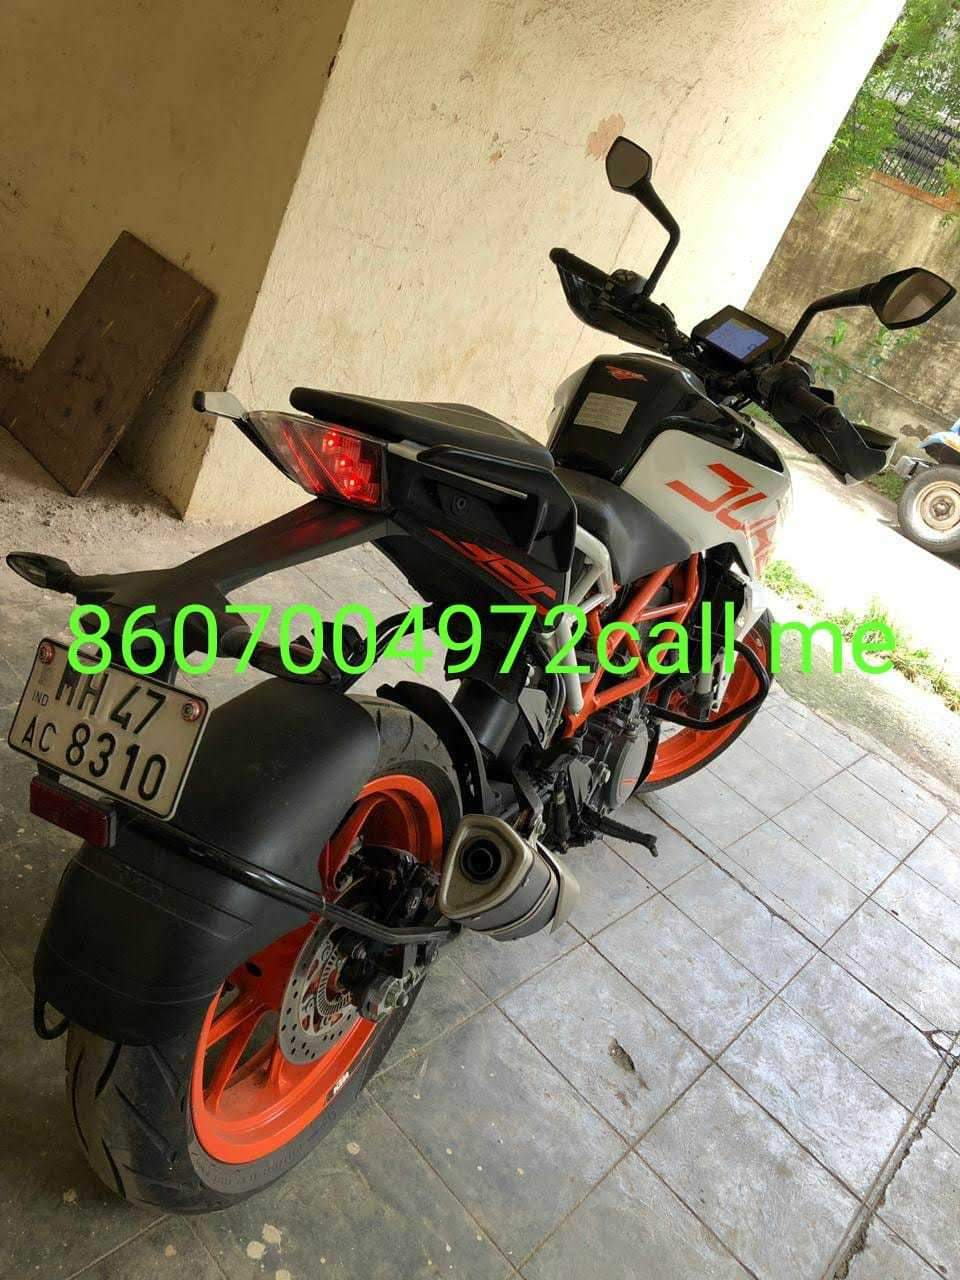doublelinenumberplate: (9, 631, 200, 821)
